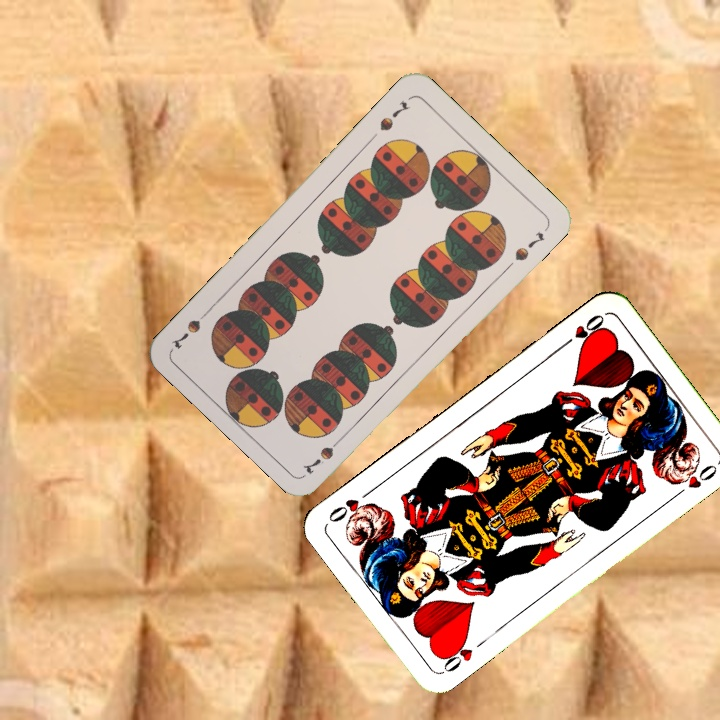HO: (557, 310, 608, 351), (436, 634, 475, 676)
S7: (299, 431, 348, 477), (375, 97, 412, 134)
